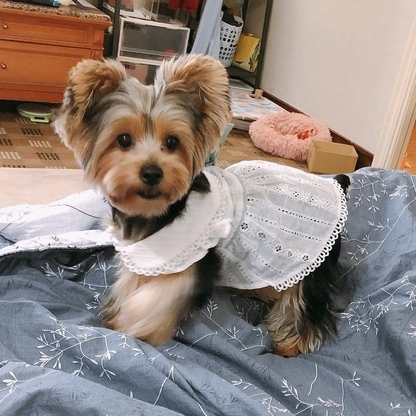yokshine: (53, 53, 351, 356)
